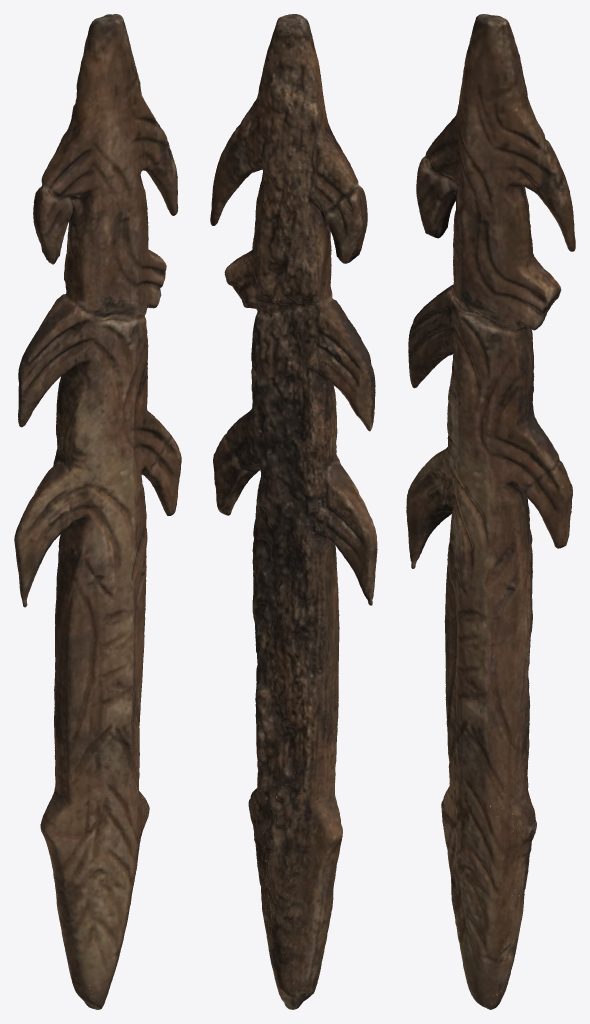
Rendered from de_renne-transformed.glb.
3 renders of one model, left to right at view 1: azimuth 30°, elevation 25°; view 2: azimuth 150°, elevation 25°; view 3: azimuth 330°, elevation 25°, orthographic.
Visible parts, largest first — view 1: Object_2; view 2: Object_2; view 3: Object_2.
Boxes of the visible parts, left/top/right/bottom form: Object_2: left=14, top=14, right=181, bottom=1009; Object_2: left=210, top=14, right=377, bottom=1009; Object_2: left=406, top=14, right=575, bottom=1009.
Size of the model in its own units: 22.63 by 131 by 9.36.
1 material, 1 textured.
